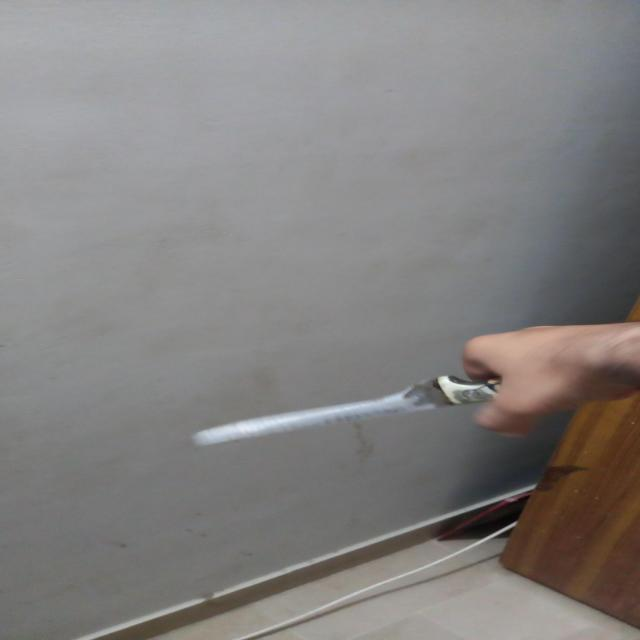Knife: (196, 375, 505, 447)
Person: (464, 325, 640, 436)
